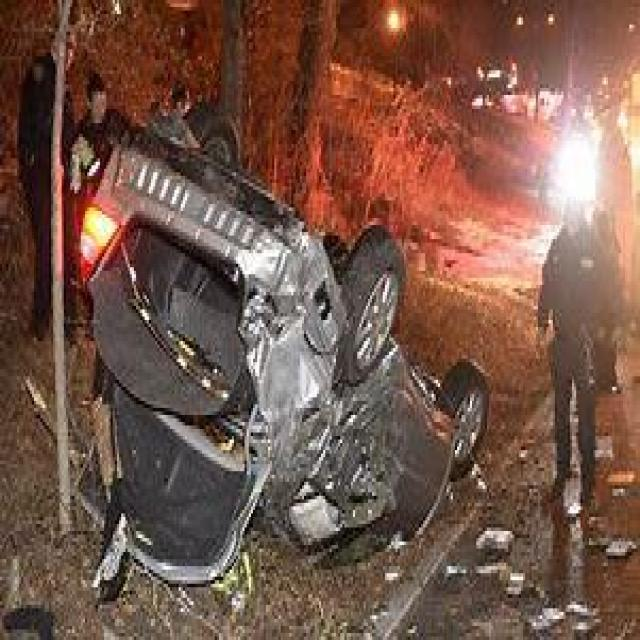Nguy hiểm: (68, 97, 495, 589)
